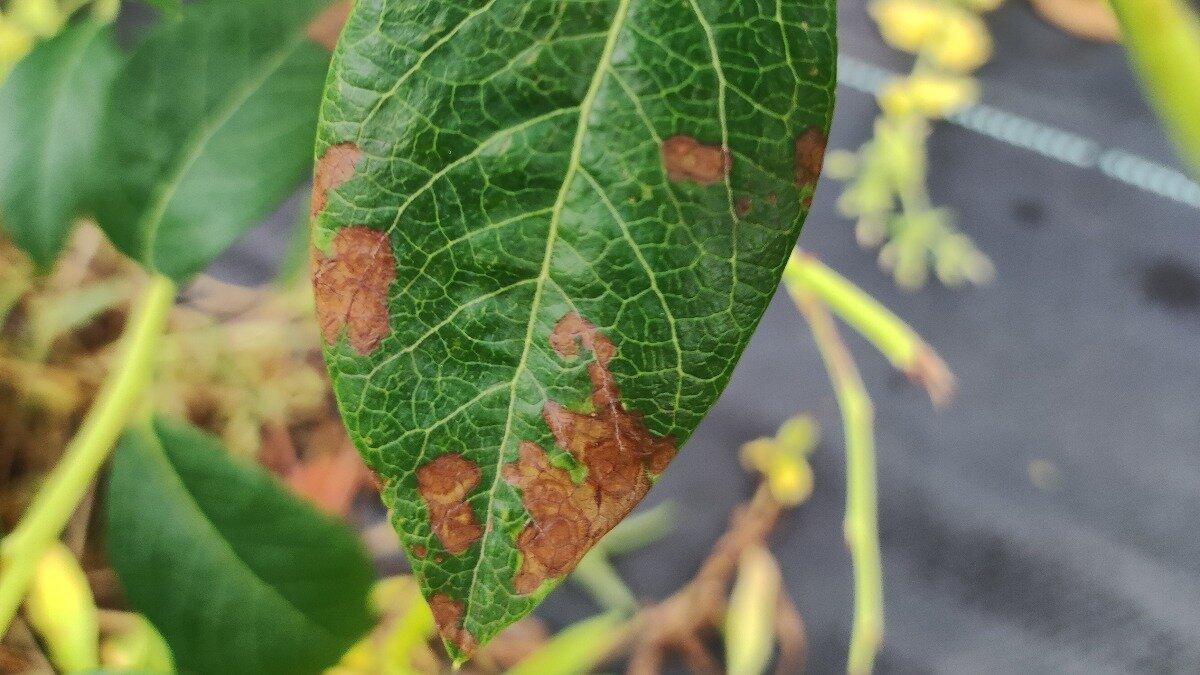late_blight: (498, 311, 676, 596), (312, 225, 395, 354), (415, 452, 484, 556), (426, 590, 488, 656), (312, 142, 361, 216), (661, 134, 730, 183), (795, 129, 825, 187)
